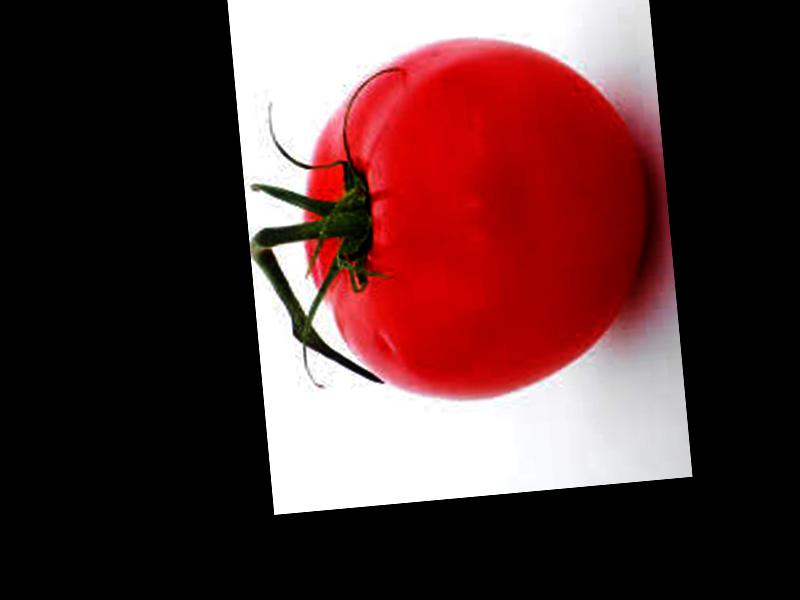Tomato: (289, 19, 666, 410)
